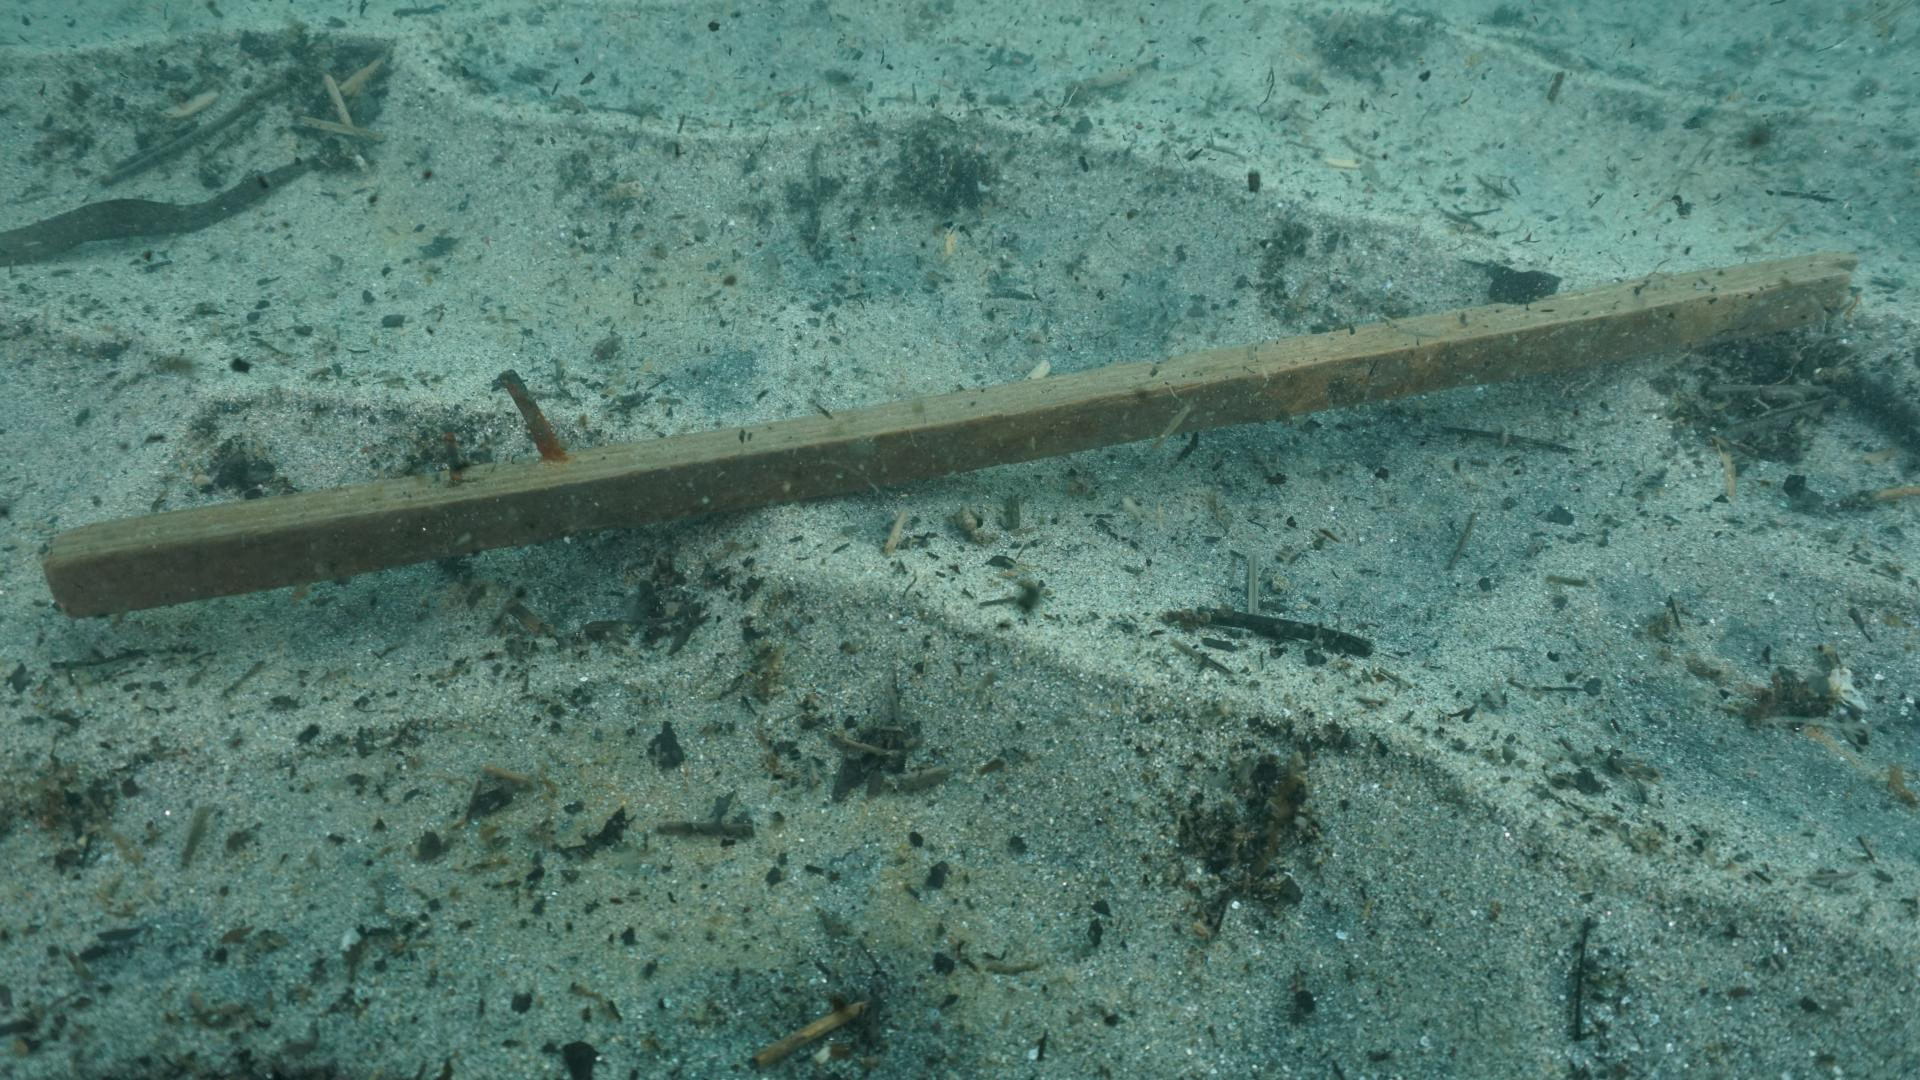wood: (36, 251, 1855, 616)
